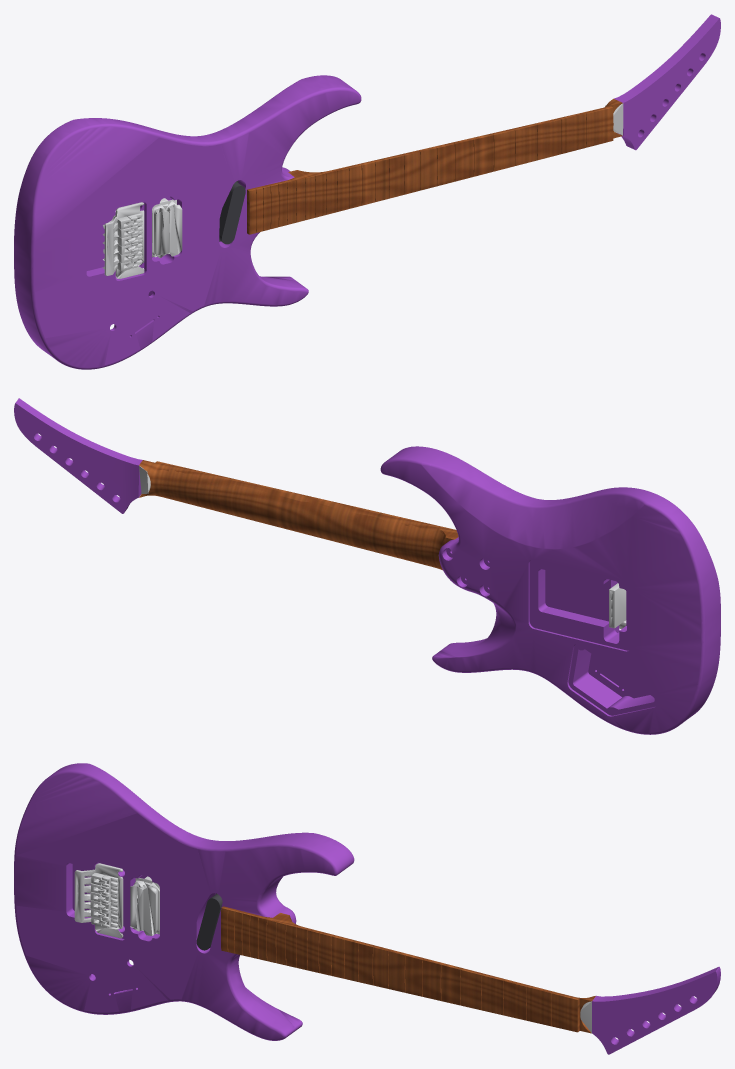
Rendered from robin-meddley.glb.
The picture shows the model from 3 angles, top to bottom: view 1: azimuth 30°, elevation 25°; view 2: azimuth 150°, elevation 25°; view 3: azimuth 330°, elevation 25°; orthographic projection. The views are drawn at different scales.
Visible parts, largest first — view 1: purple, roasted, metal, black; view 2: purple, roasted, metal; view 3: purple, roasted, metal, black.
Part boxes in pixels (x1,y1,x2,y2): purple: [14, 14, 720, 369]; roasted: [247, 98, 622, 234]; metal: [103, 103, 623, 278]; black: [219, 181, 245, 244]; purple: [14, 398, 720, 734]; roasted: [139, 460, 458, 570]; metal: [139, 465, 626, 628]; purple: [14, 763, 720, 1054]; roasted: [221, 906, 595, 1033]; metal: [74, 863, 591, 1032]; black: [196, 893, 222, 950].
Size of the model in its own units: 958 by 311 by 62.94.
4 materials, 1 textured.
